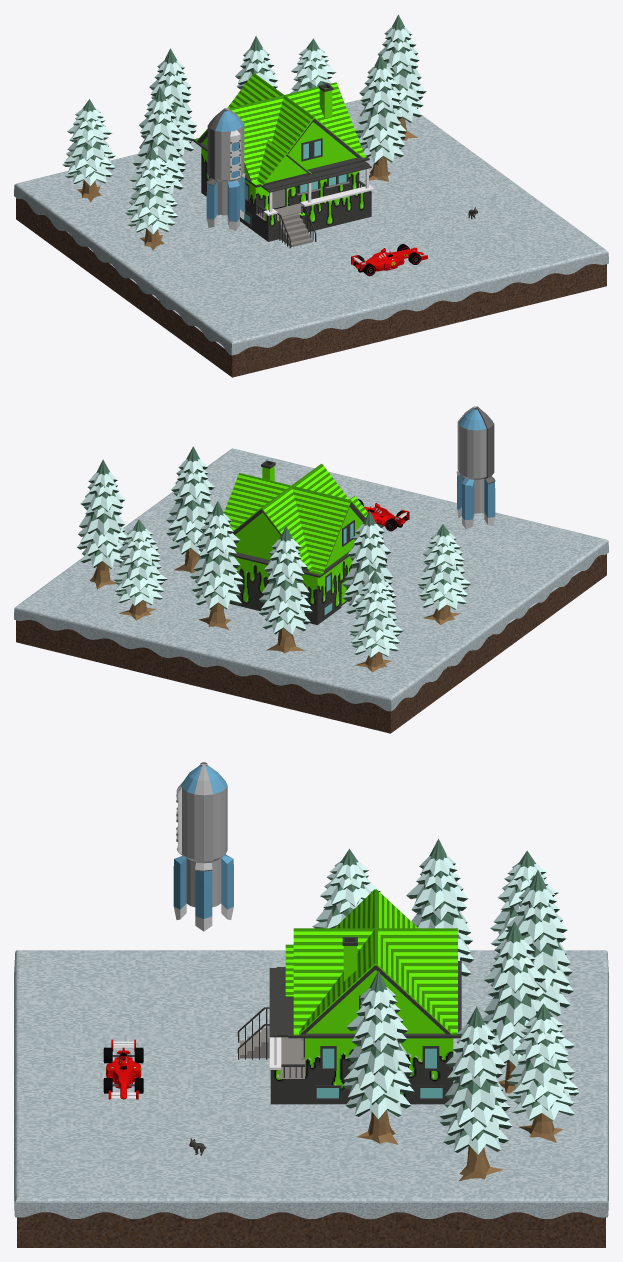
The picture shows the model from 3 angles, top to bottom: view 1: azimuth 30°, elevation 25°; view 2: azimuth 150°, elevation 25°; view 3: azimuth 270°, elevation 25°; orthographic projection. The views are drawn at different scales.
Visible parts, largest first — view 1: Cube.003, Cube.754, OBJRANDOM_ROCKETSHIP, VEHICLES_FORMULA_1; view 2: Cube.003, Cube.754, OBJRANDOM_ROCKETSHIP, VEHICLES_FORMULA_1; view 3: Cube.003, Cube.754, OBJRANDOM_ROCKETSHIP, VEHICLES_FORMULA_1.
Boxes of the visible parts, left/top/right/bottom form: Cube.003: left=14, top=14, right=608, bottom=377; Cube.754: left=193, top=73, right=374, bottom=248; OBJRANDOM_ROCKETSHIP: left=206, top=108, right=245, bottom=231; VEHICLES_FORMULA_1: left=351, top=244, right=427, bottom=276; Cube.003: left=14, top=446, right=608, bottom=733; Cube.754: left=224, top=460, right=386, bottom=624; OBJRANDOM_ROCKETSHIP: left=456, top=406, right=495, bottom=529; VEHICLES_FORMULA_1: left=358, top=499, right=409, bottom=531; Cube.003: left=14, top=839, right=608, bottom=1247; Cube.754: left=237, top=889, right=461, bottom=1104; OBJRANDOM_ROCKETSHIP: left=173, top=762, right=233, bottom=931; VEHICLES_FORMULA_1: left=103, top=1039, right=143, bottom=1099.
Bounding box in the file's own units: 4040 × 2102 × 4040.
34 materials, 5 textured.
